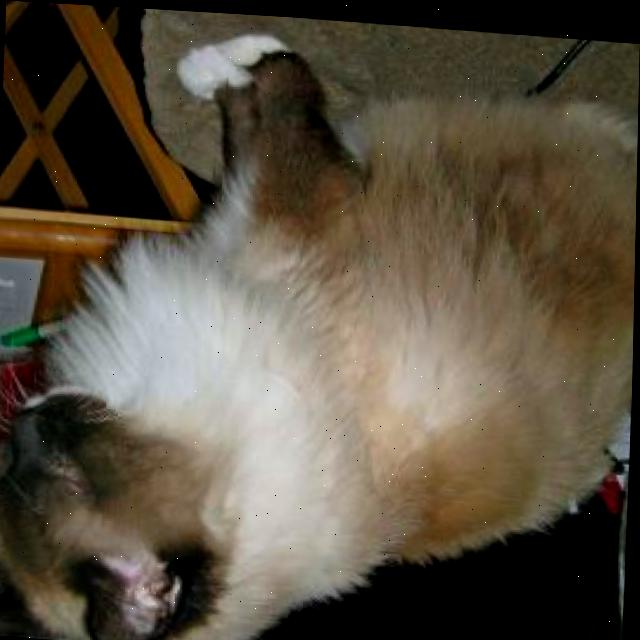Birman: (0, 10, 640, 640)
